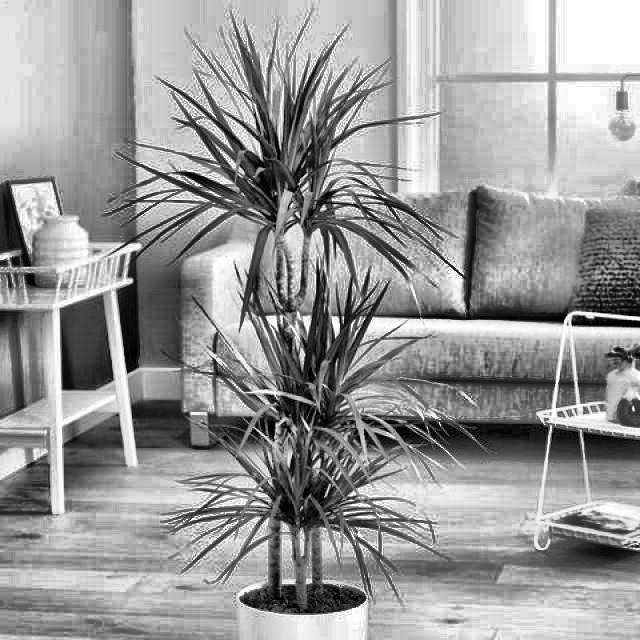plants: (158, 59, 414, 638)
